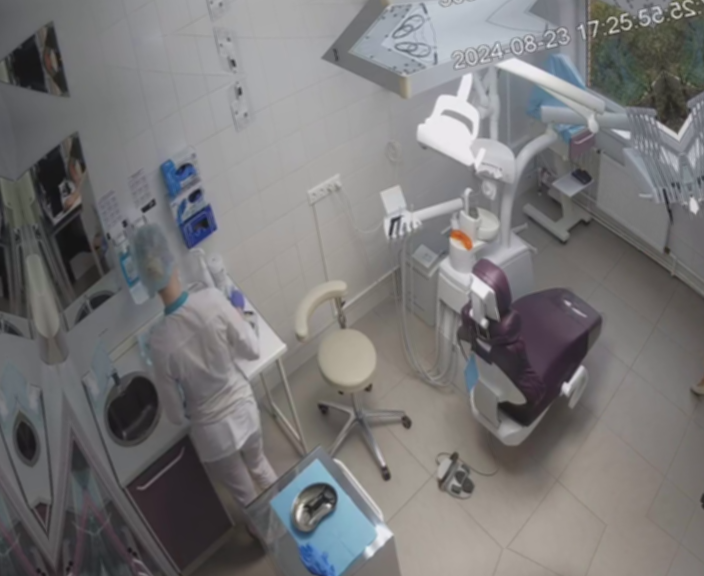Empty: (435, 236, 628, 457)
